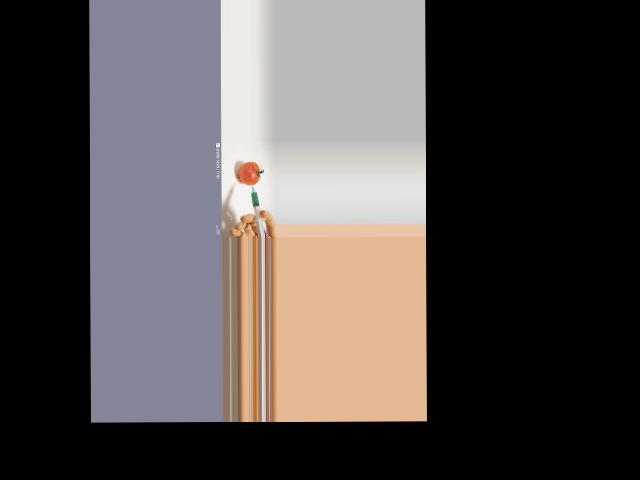tomato: (238, 162, 259, 185)
